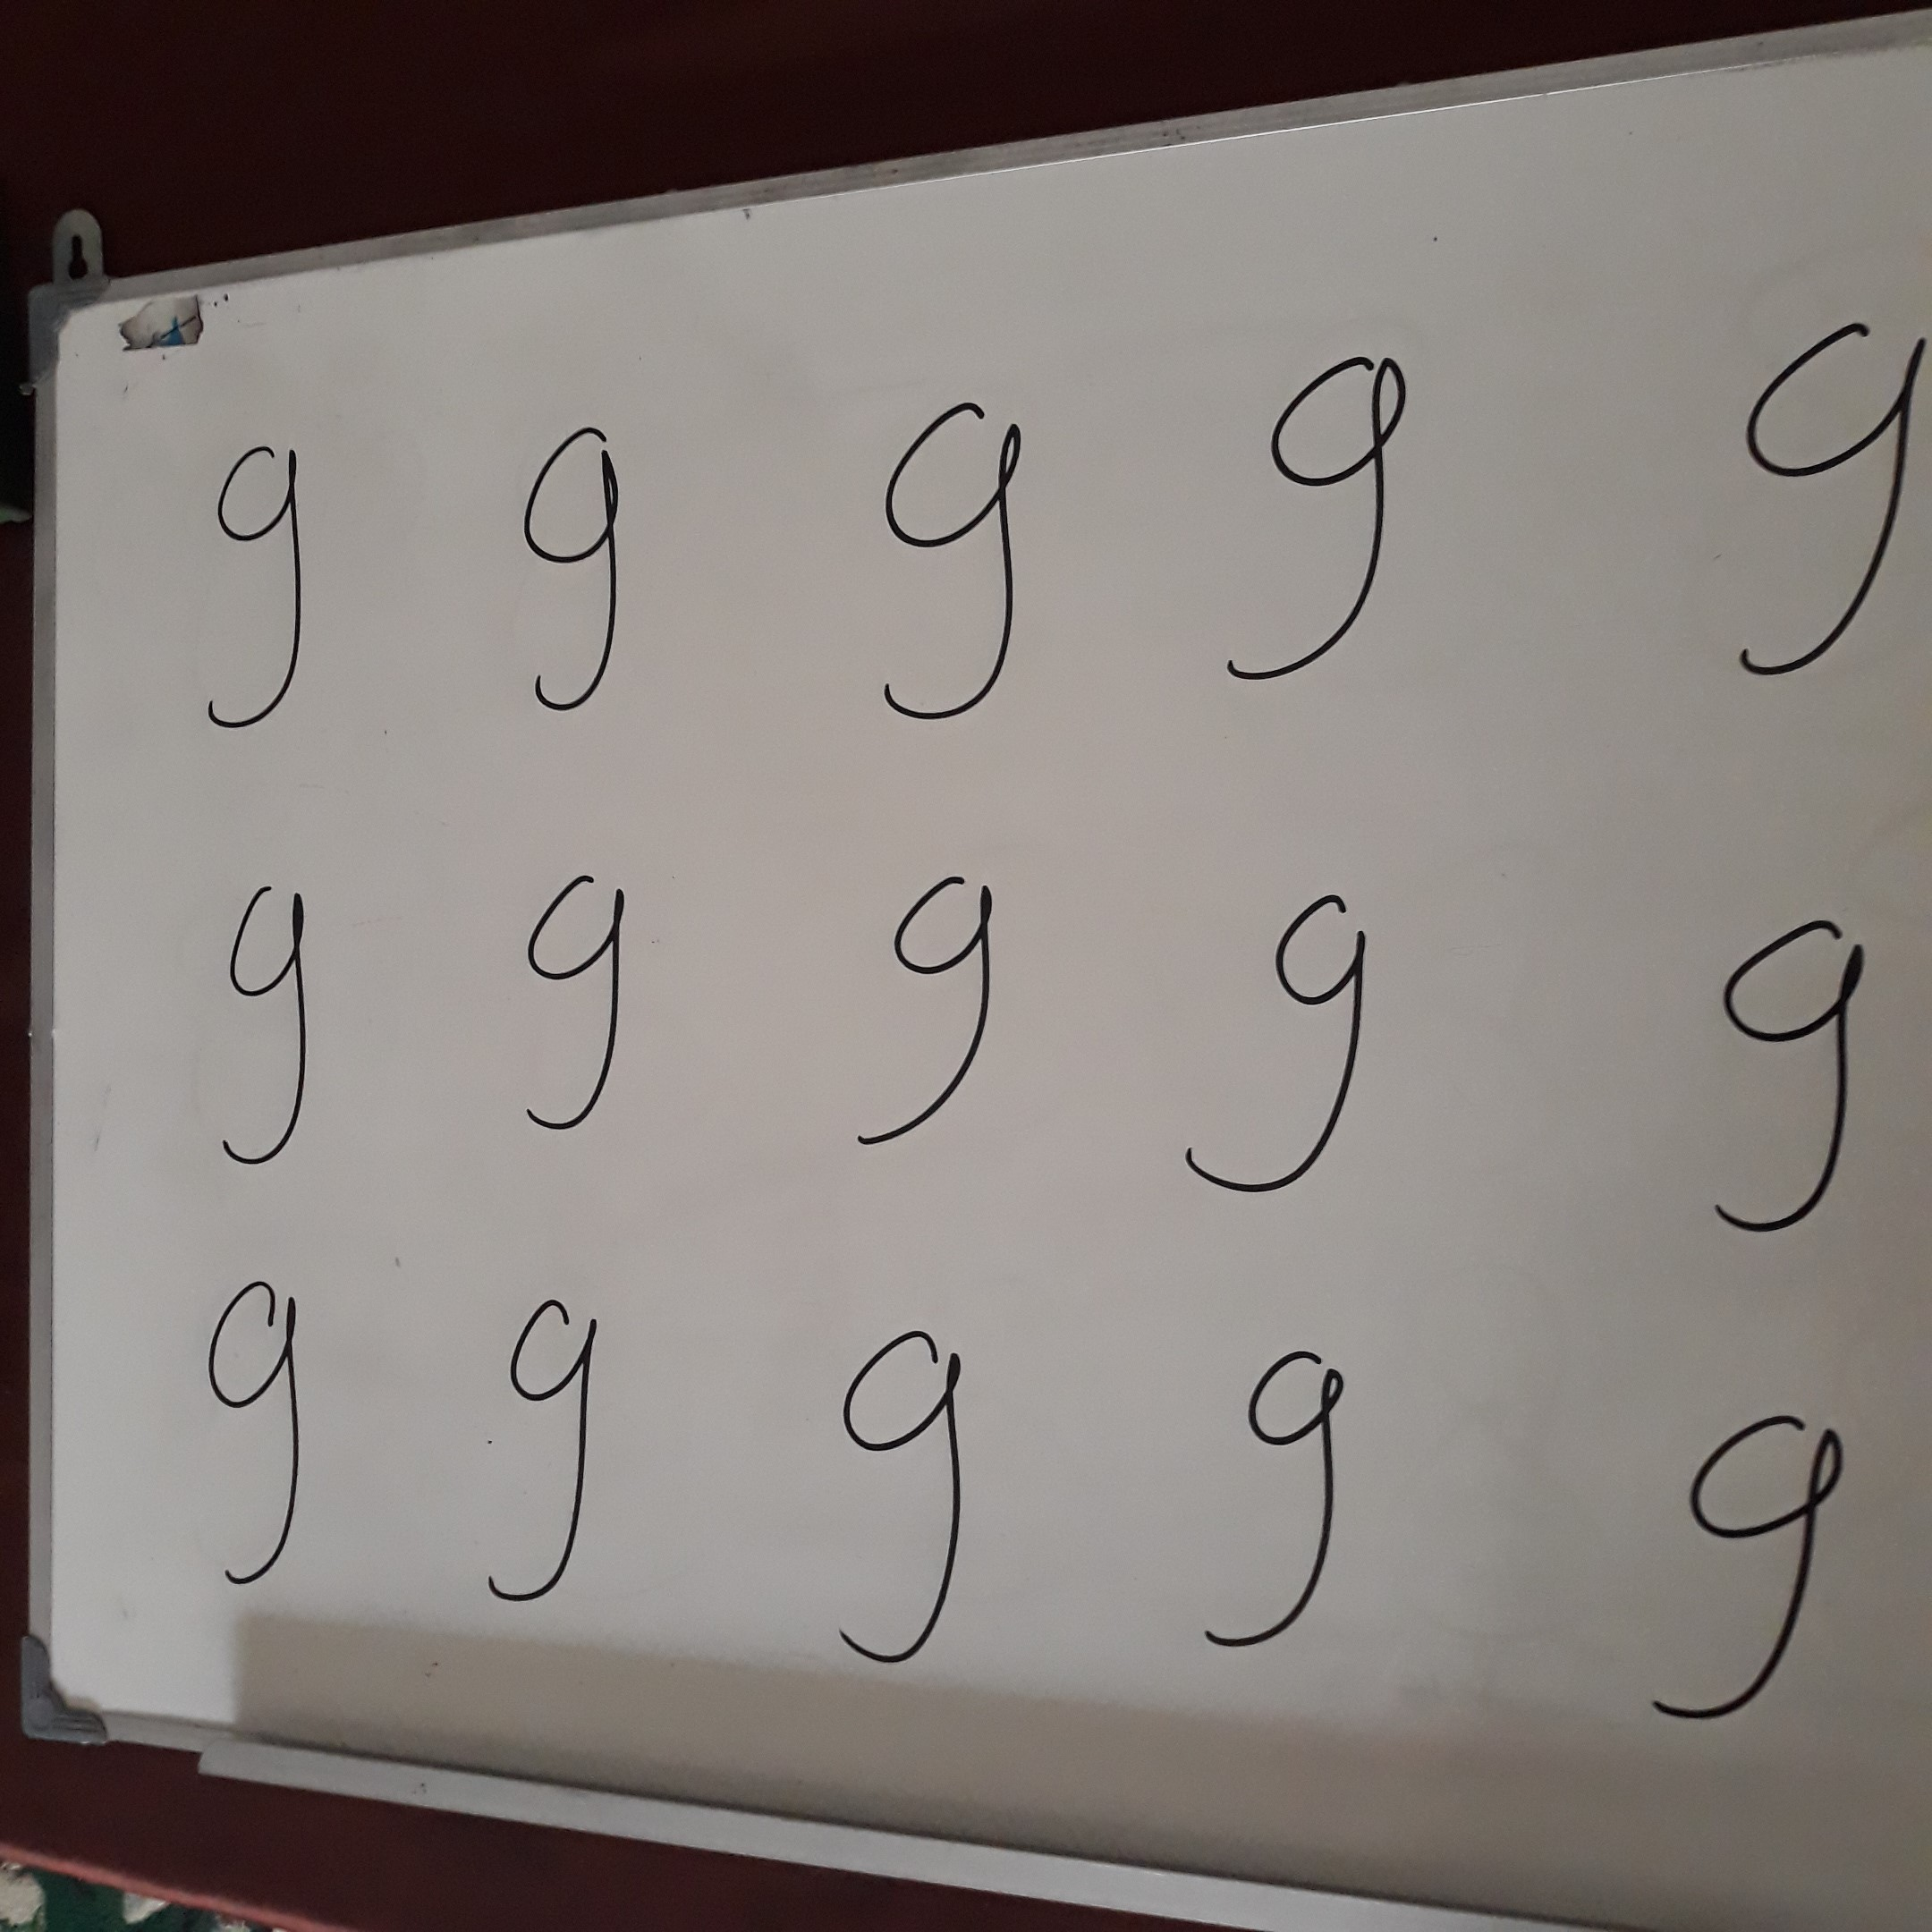num9: (1195, 336, 1450, 716), (1692, 314, 1932, 710), (1639, 1382, 1886, 1743), (1176, 868, 1419, 1234), (775, 1326, 1011, 1680), (835, 388, 1057, 744), (829, 847, 1049, 1210), (1685, 895, 1897, 1264), (1190, 1317, 1385, 1695), (449, 1283, 657, 1630), (492, 411, 679, 744), (191, 1255, 349, 1607), (179, 420, 347, 746), (196, 866, 352, 1193), (498, 849, 665, 1155)
